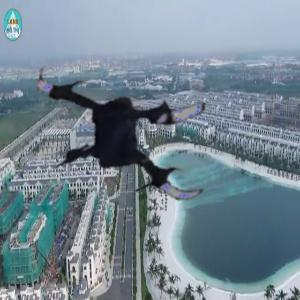drone: (30, 22, 236, 228)
